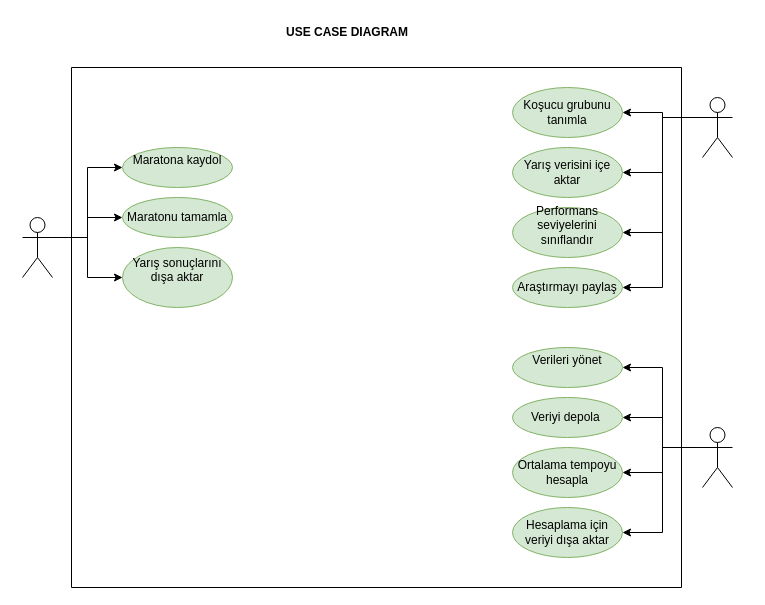
Image size: 765x605. Some labels were removed from this diagram. Here are the shapes that lost their labels. From the top down, the centre of each, then its label:
(x=717, y=127): Araştırmacı
(x=37, y=247): Koşucu
(x=717, y=457): Sistem
